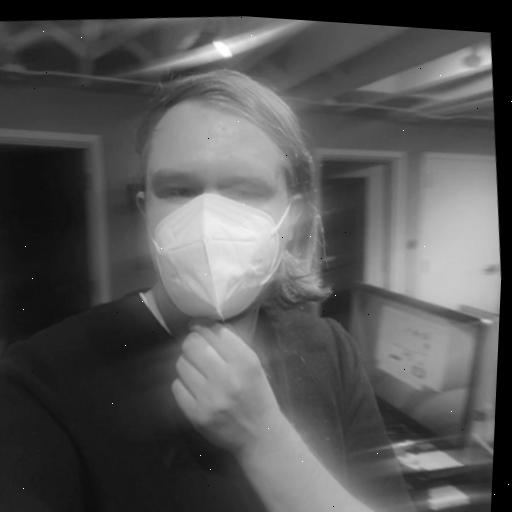mask: (97, 22, 367, 344)
